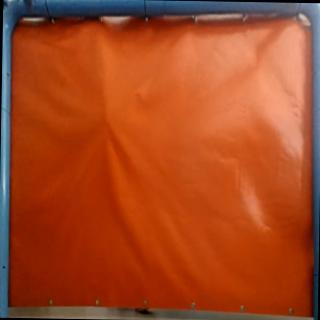Hit-hRxx: (96, 110, 115, 127)
